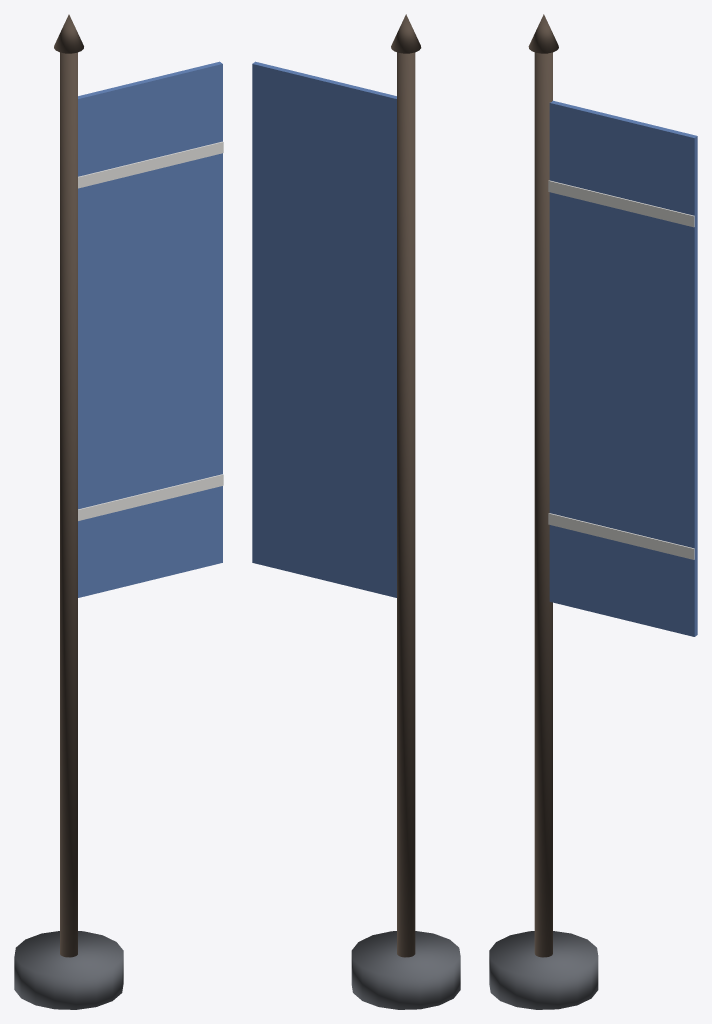
File: prop_tate_nobori_blue.glb
The picture shows the model from 3 angles, left to right: view 1: azimuth 30°, elevation 25°; view 2: azimuth 150°, elevation 25°; view 3: azimuth 330°, elevation 25°; orthographic projection.
Visible parts, largest first — view 1: tate_nobori_blue; view 2: tate_nobori_blue; view 3: tate_nobori_blue.
Boxes of the visible parts, left/top/right/bottom form: tate_nobori_blue: left=14, top=14, right=223, bottom=1009; tate_nobori_blue: left=252, top=14, right=460, bottom=1009; tate_nobori_blue: left=489, top=14, right=697, bottom=1009.
Bounding box in the file's own units: 0.755 × 3.51 × 0.36.
